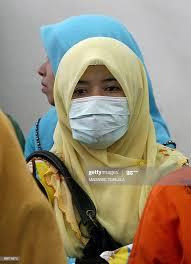Wearing Mask: (58, 41, 153, 159)
